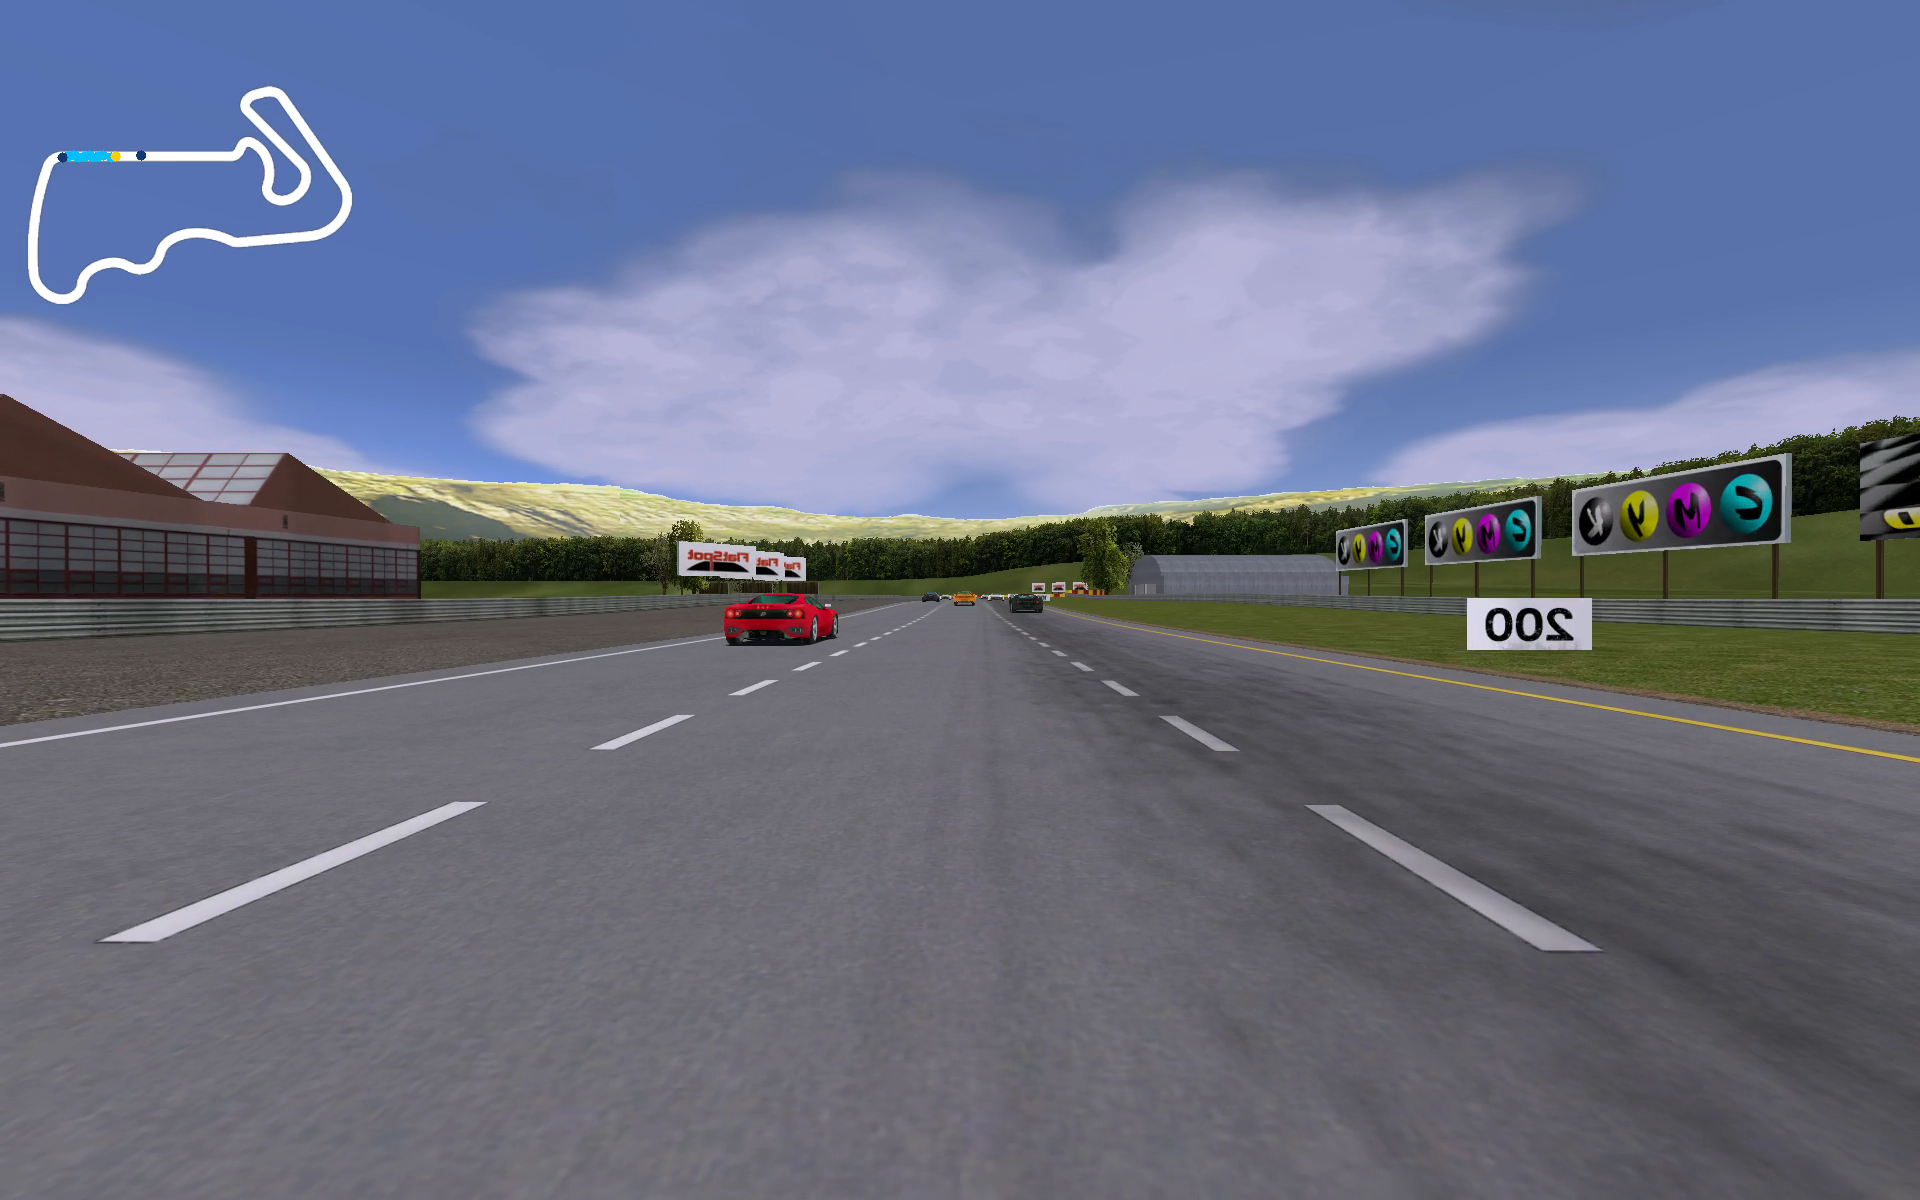car: (720, 590, 843, 651), (1008, 590, 1046, 614), (950, 588, 980, 608)
